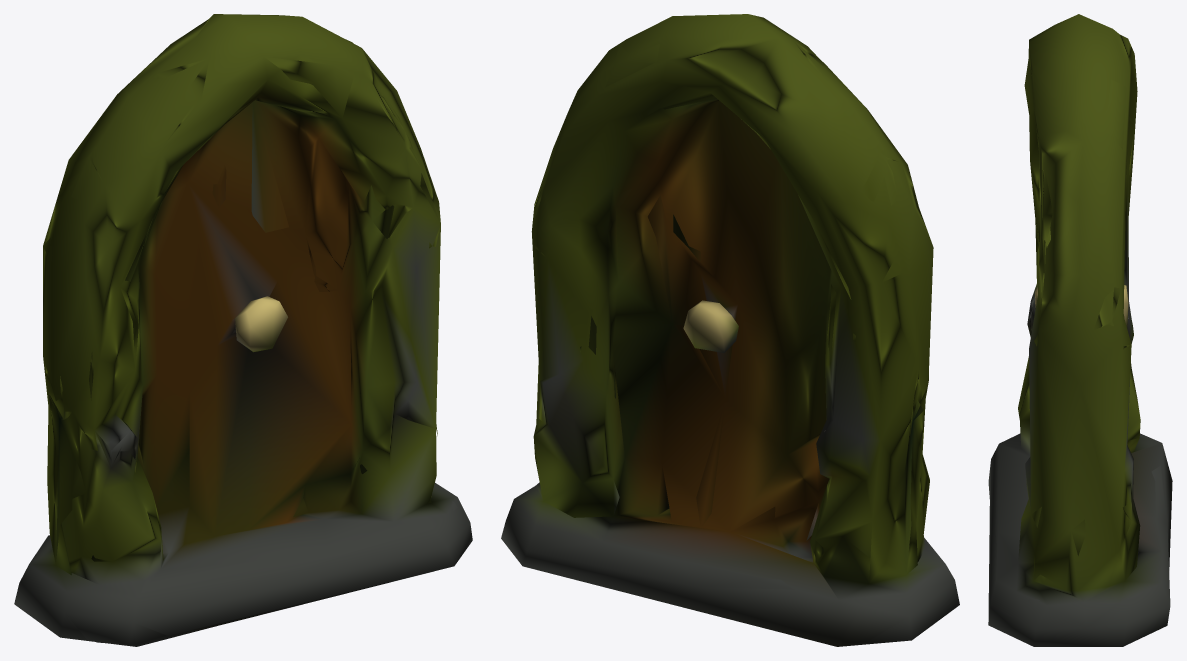
File: gen3d-fairy-door-lod1.glb
3 renders of one model, left to right at view 1: azimuth 30°, elevation 25°; view 2: azimuth 150°, elevation 25°; view 3: azimuth 270°, elevation 25°, orthographic. The views are drawn at different scales.
Parts seen in each view (by area): view 1: part_0; view 2: part_0; view 3: part_0.
Boxes of the visible parts, <box> form: part_0: <box>14,14,472,646</box>; part_0: <box>501,14,959,646</box>; part_0: <box>988,14,1172,646</box>.
Bounding box in the file's own units: 0.7645 × 0.9999 × 0.3126.
